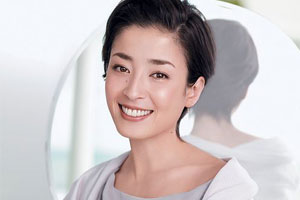smile: (106, 25, 181, 138)
